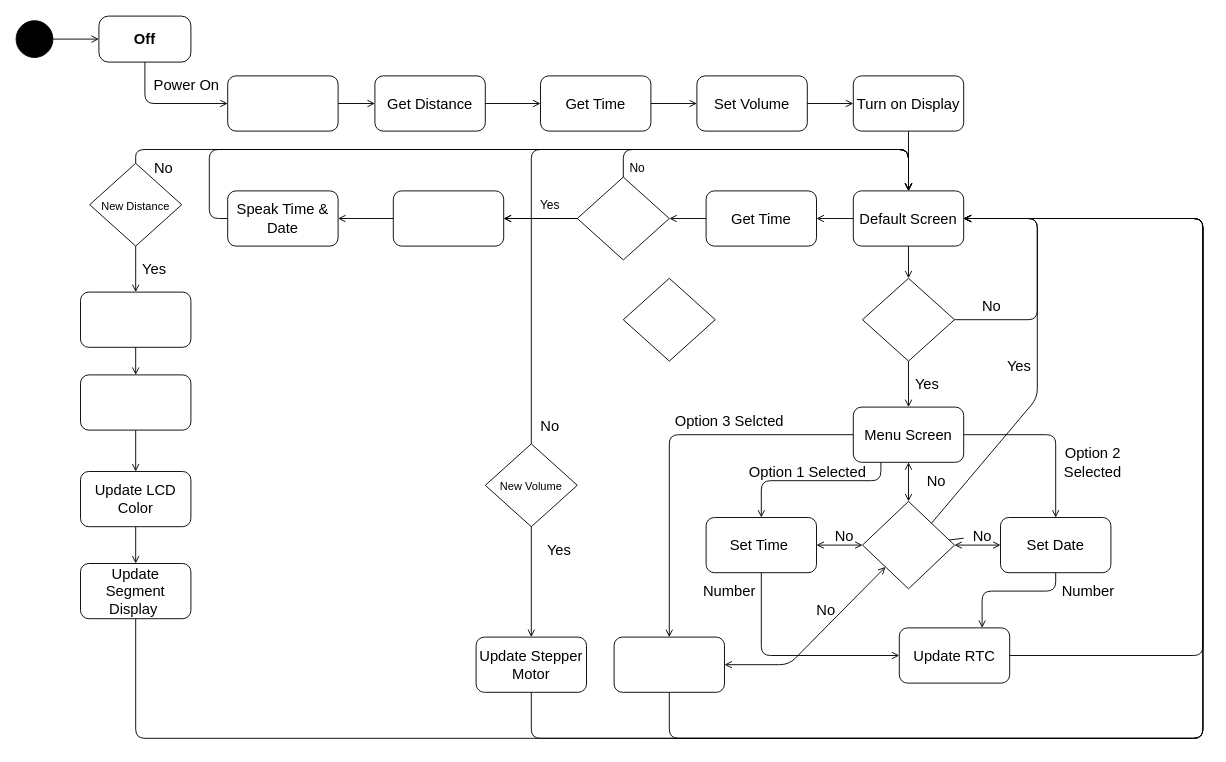
Some shapes in this 1226 by 762 pixel diagram are drawn without their labels. Each missing label, with the centre of its shape:
"1 minute passed?" belongs at (908,544).
"Initialize functions" belongs at (282,103).
"Rotary Encoder Pressed?" belongs at (908,319).
"Rotary Encoder Turned?" belongs at (668,319).
"Time Updated?" belongs at (622,218).
"Toggle Time Audio" belongs at (668,664).
"Update LCD" belongs at (448,218).
"Update LED Color" belongs at (135,402).
"Update Note" belongs at (135,319).
